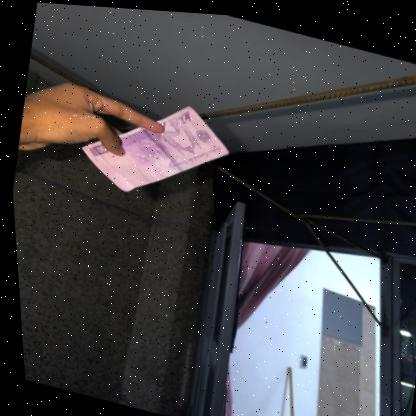one_hundred-back-vef: (68, 76, 238, 215)
